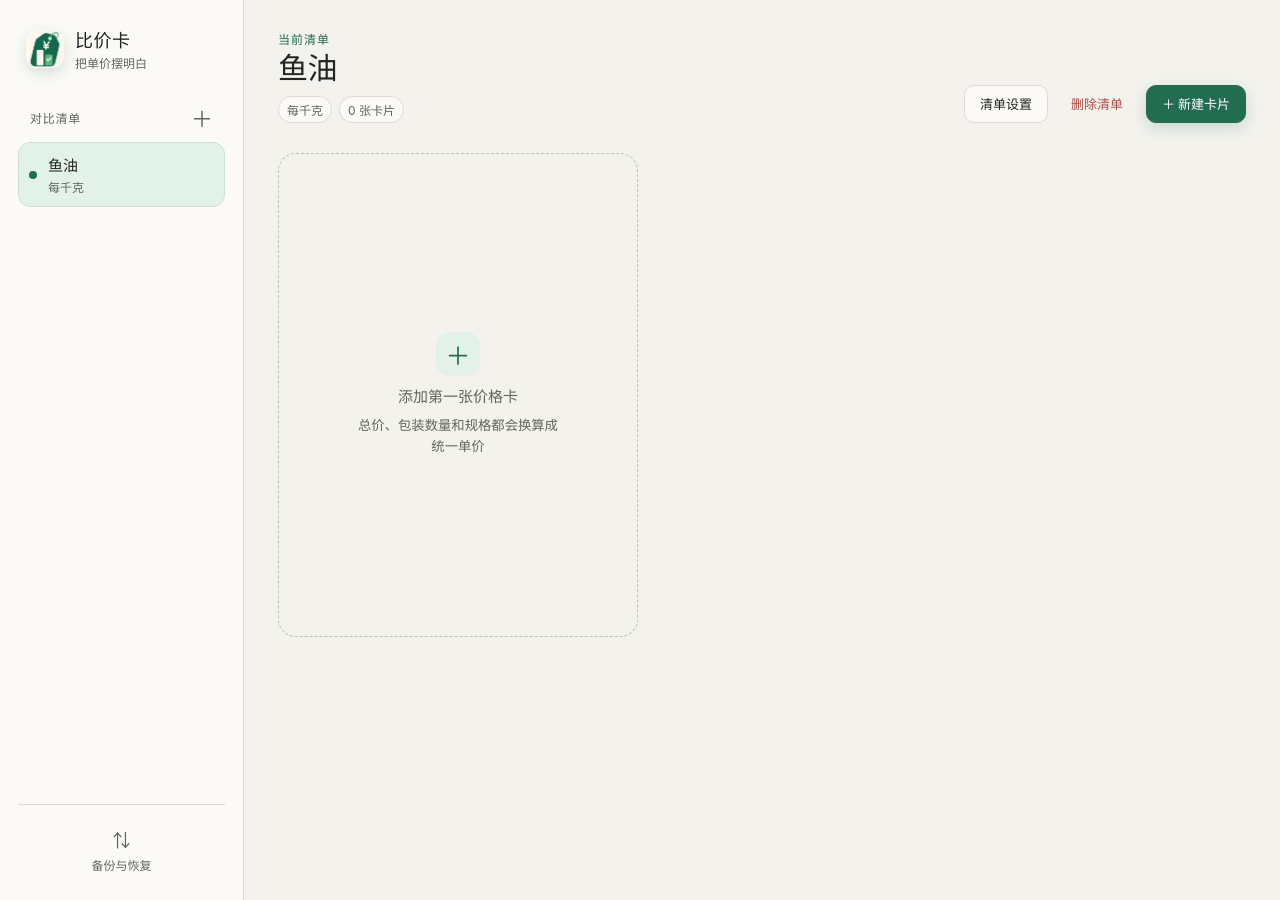
Test: App › 有效成分和倍率默认折叠，勾选后才显示输入框
Expected: the heading "鱼油" is shown, [278,50,337,86]
Click the button "＋ 添加第一张价格卡 总价、包装数量和规格都会换算成统一单价" at x=458, y=395, box [278,153,638,637]
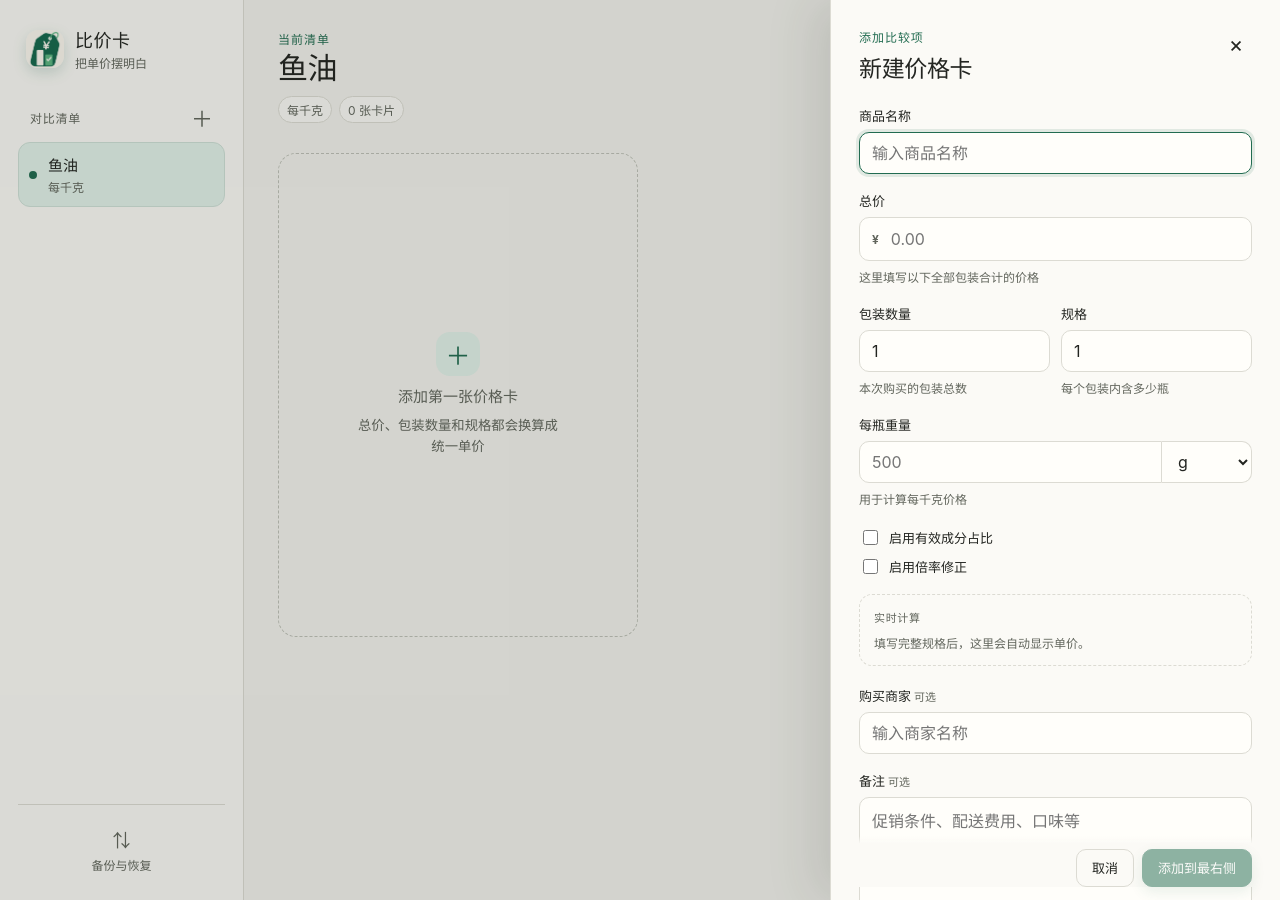
Expected: the field with placeholder "输入商品名称" is shown, [859,132,1252,174]
Expected: the text "本次购买的包装总数" is shown, [859,381,967,396]
Expected: the text "每个包装内含多少瓶" is shown, [1061,381,1169,396]
Click the checkbox labelled "启用有效成分占比" at x=870, y=537, box [863,530,878,545]
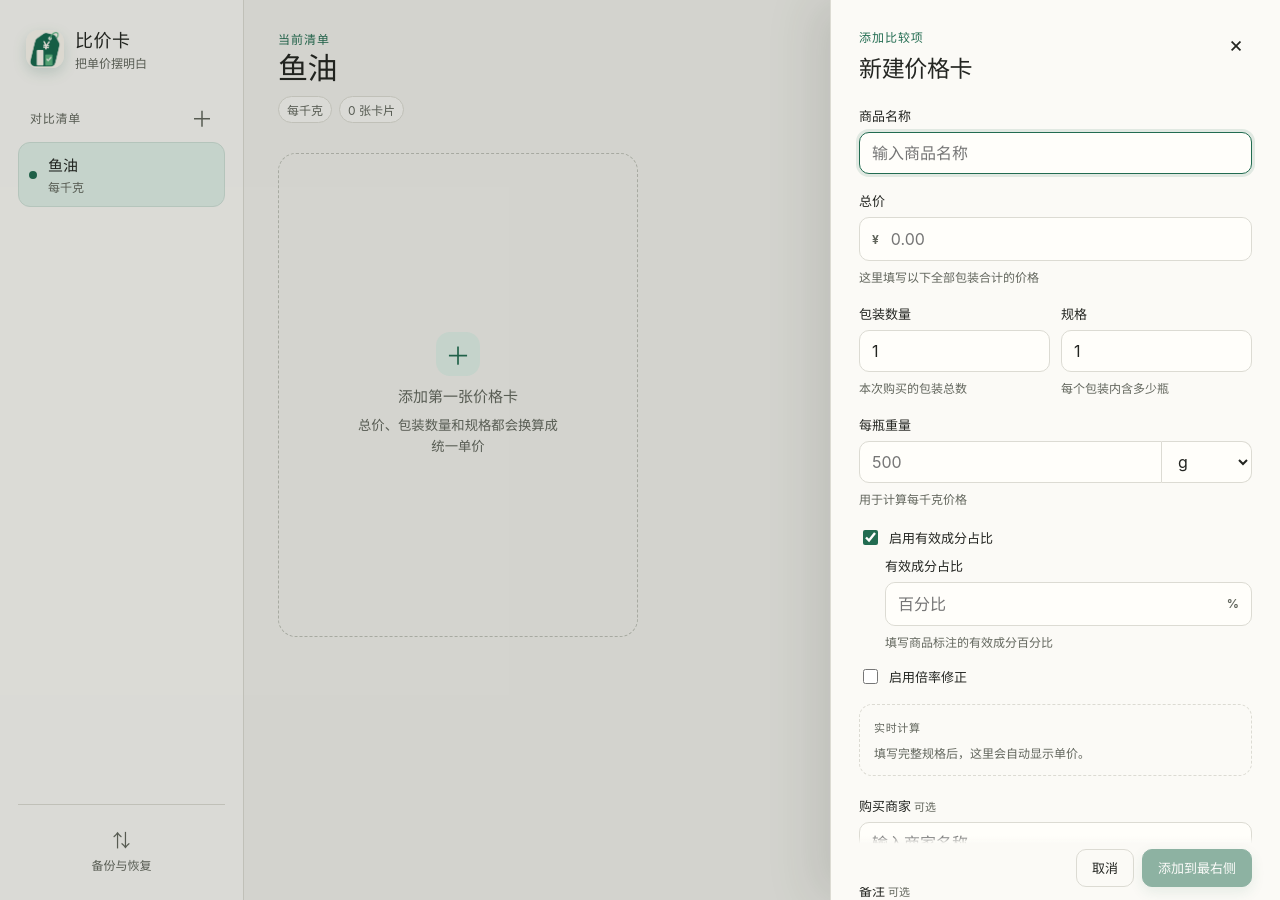
Expected: the text "填写用于修正有效利用量的倍率，基准值为 1" is not shown
Expected: the text "填写商品标注的有效成分百分比" is shown, [885,635,1053,650]
Click the checkbox labelled "启用倍率修正" at x=870, y=676, box [863,669,878,684]
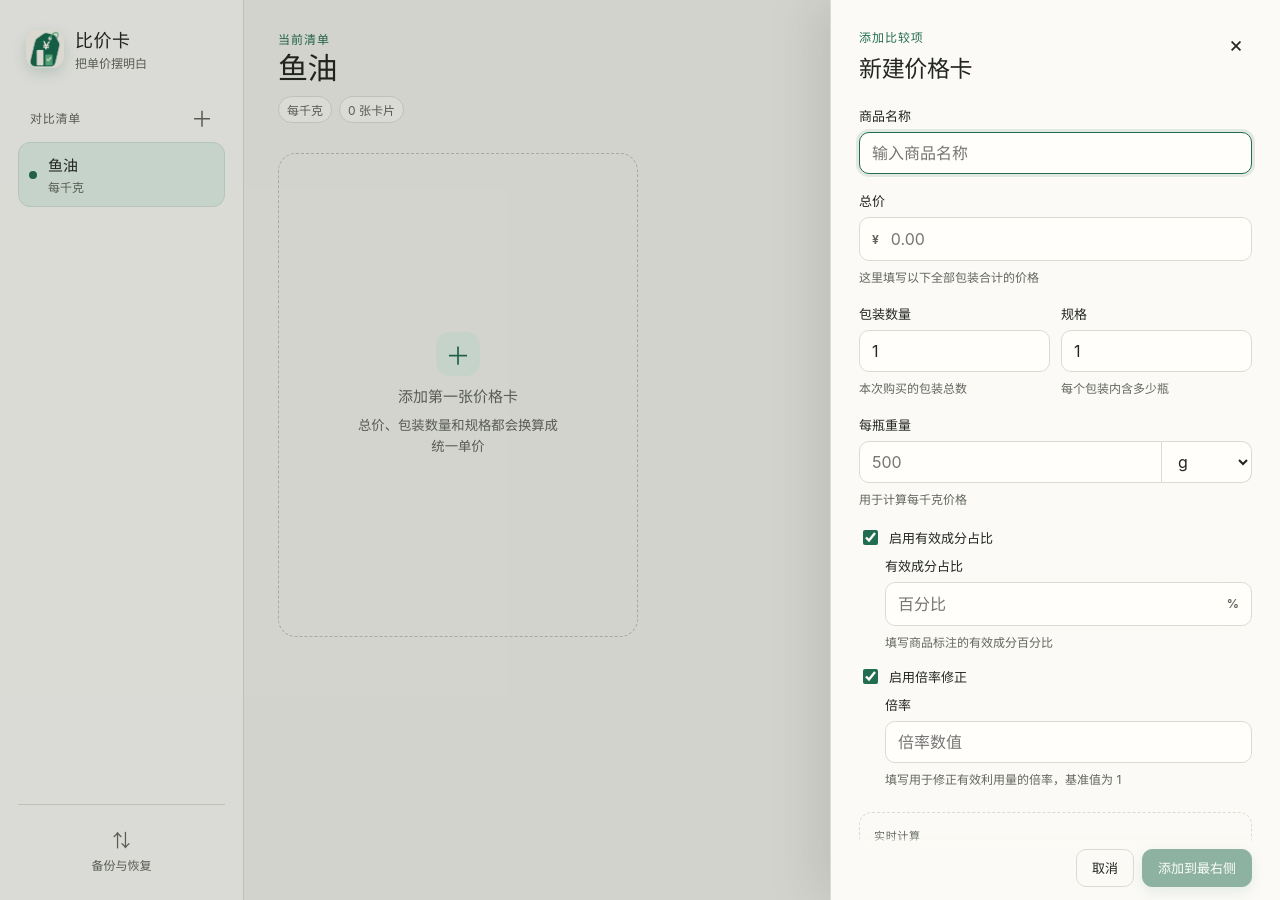
Expected: the text "填写用于修正有效利用量的倍率，基准值为 1" is shown, [885,772,1121,787]
